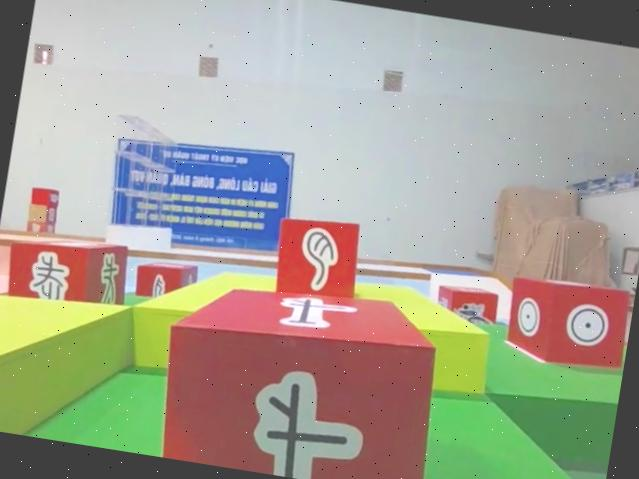R1: (433, 281, 502, 331)
R2 Fake: (0, 226, 130, 321), (267, 210, 365, 304)
R2 Real: (148, 265, 453, 479), (499, 270, 631, 375)
